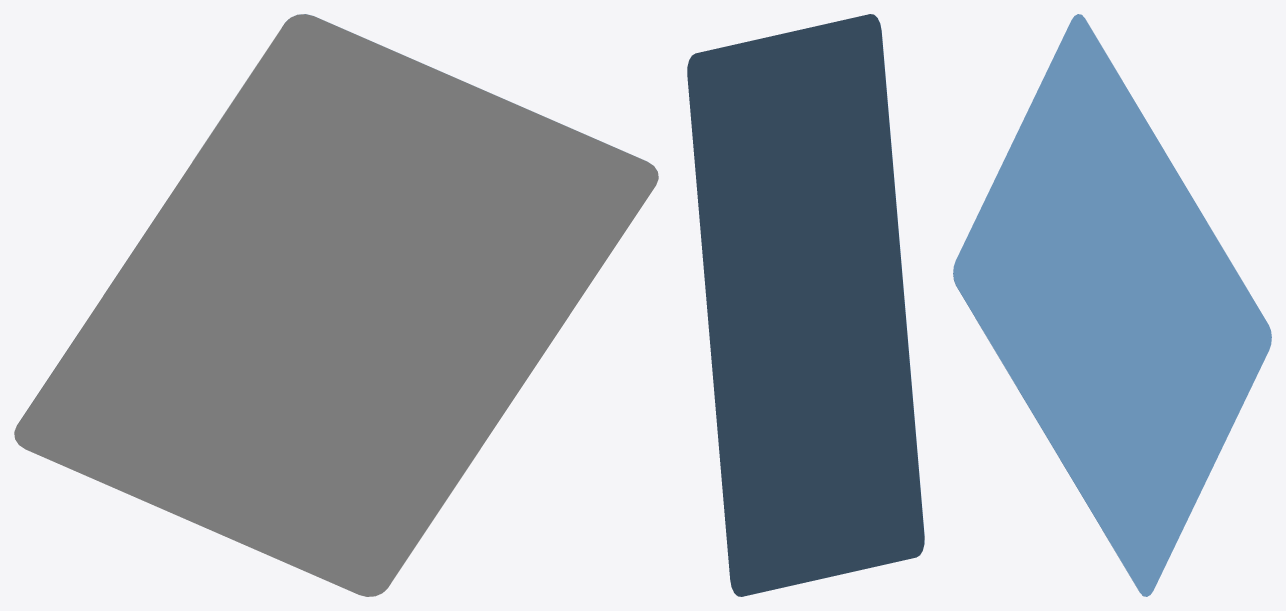
The model's file is Carte_3.fbx.
3 renders of one model, left to right at view 1: azimuth 30°, elevation 25°; view 2: azimuth 150°, elevation 25°; view 3: azimuth 270°, elevation 25°, orthographic. The views are drawn at different scales.
Parts seen in each view (by area): view 1: Plane.024; view 2: Plane.024; view 3: Plane.024.
Part boxes in pixels (x1,y1,x2,y2): Plane.024: (14,14,658,596); Plane.024: (687,14,924,596); Plane.024: (953,14,1271,596).
Size of the model in its own units: 249 by 336 by 181.
